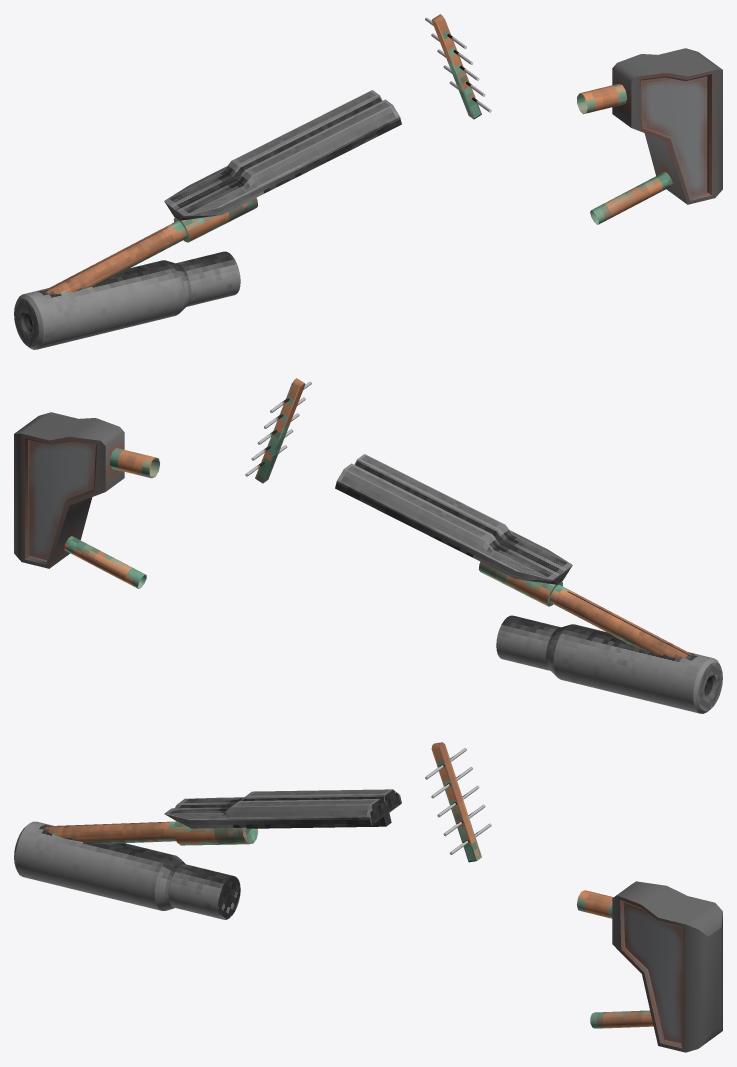
File: weapon_boltcharge_extension.fbx
3 renders of one model, top to bottom at view 1: azimuth 30°, elevation 25°; view 2: azimuth 150°, elevation 25°; view 3: azimuth 330°, elevation 25°, orthographic.
Visible parts, largest first — view 1: Cube, Cylinder, Auto_body.001, Cylinder.001, Cylinder.003, Auto_body.002, Cylinder.002, Cylinder.004; view 2: Cube, Cylinder, Auto_body.001, Cylinder.001, Cylinder.003, Auto_body.002, Cylinder.002, Cylinder.004; view 3: Cube, Cylinder, Auto_body.001, Cylinder.001, Auto_body.002, Cylinder.003, Cylinder.004, Cylinder.002.
Part boxes in pixels (x1,y1,x2,y2): Cube: [612, 48, 722, 204]; Cylinder: [14, 251, 240, 349]; Auto_body.001: [164, 90, 401, 220]; Cylinder.001: [43, 198, 257, 294]; Cylinder.003: [590, 171, 672, 224]; Auto_body.002: [431, 14, 481, 119]; Cylinder.002: [577, 83, 627, 114]; Cylinder.004: [425, 17, 491, 112]; Cube: [14, 412, 124, 568]; Cylinder: [496, 615, 722, 713]; Auto_body.001: [335, 454, 572, 584]; Cylinder.001: [478, 562, 693, 658]; Cylinder.003: [64, 536, 146, 588]; Auto_body.002: [255, 378, 305, 483]; Cylinder.002: [110, 448, 159, 478]; Cylinder.004: [245, 381, 311, 476]; Cube: [612, 881, 722, 1052]; Cylinder: [14, 821, 240, 919]; Auto_body.001: [164, 789, 401, 828]; Cylinder.001: [43, 821, 258, 845]; Auto_body.002: [431, 742, 481, 862]; Cylinder.003: [590, 1010, 653, 1028]; Cylinder.004: [425, 748, 491, 854]; Cylinder.002: [577, 890, 613, 918].
Size of the model in its own units: 40.38 by 13.86 by 3.99.
